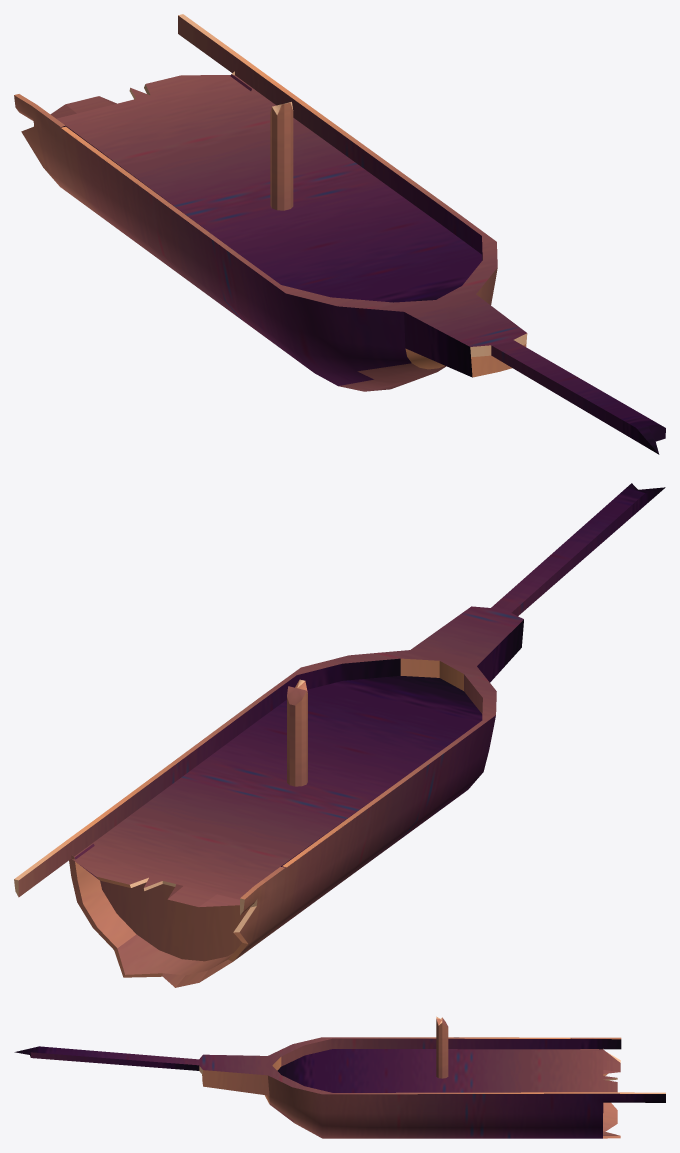
Rendered from ShipFront.fbx.
3 renders of one model, top to bottom at view 1: azimuth 30°, elevation 25°; view 2: azimuth 150°, elevation 25°; view 3: azimuth 270°, elevation 25°, orthographic. The views are drawn at different scales.
Visible parts, largest first — view 1: pCylinder4; view 2: pCylinder4; view 3: pCylinder4.
Boxes of the visible parts, x1=… form: pCylinder4: x1=14, y1=14, x2=665, y2=454; pCylinder4: x1=14, y1=483, x2=665, y2=987; pCylinder4: x1=14, y1=1016, x2=665, y2=1138.
Size of the model in its own units: 2.64 by 2.5 by 12.75.
Materials: 1 (1 with a texture image).
